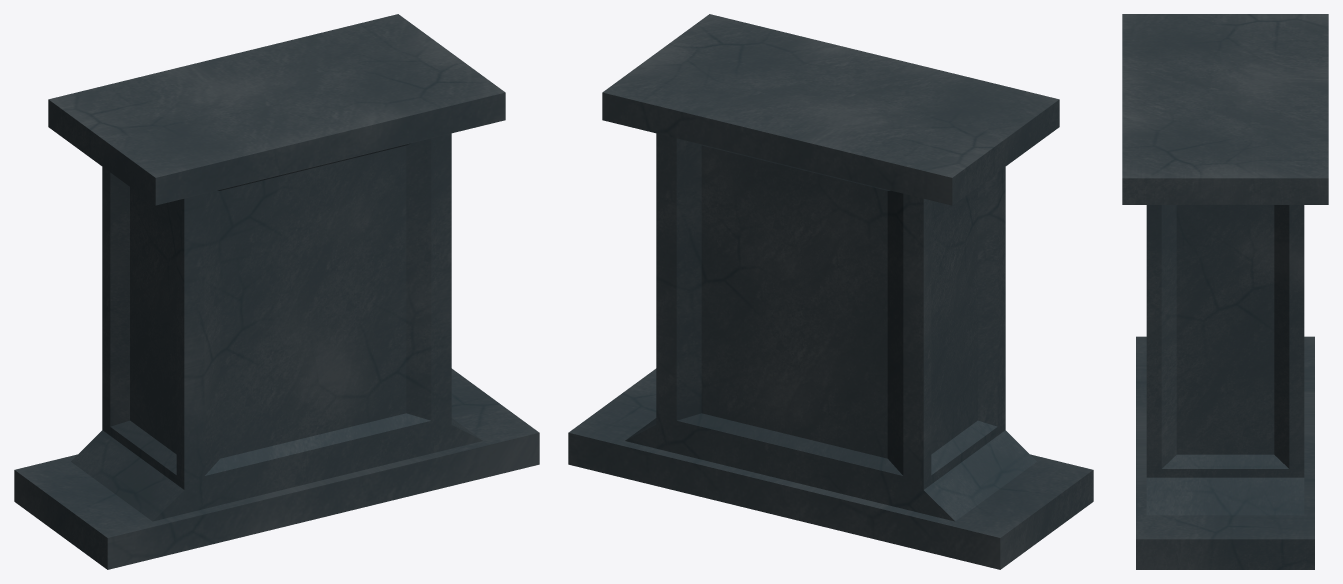
The model's file is Gravestone12_Model.fbx.
The picture shows the model from 3 angles, left to right: view 1: azimuth 30°, elevation 25°; view 2: azimuth 150°, elevation 25°; view 3: azimuth 270°, elevation 25°; orthographic projection. The views are drawn at different scales.
Visible parts, largest first — view 1: Gravestone12; view 2: Gravestone12; view 3: Gravestone12.
Boxes of the visible parts, bbox=[...] form: Gravestone12: bbox=[14, 14, 539, 569]; Gravestone12: bbox=[568, 14, 1093, 569]; Gravestone12: bbox=[1122, 14, 1328, 569].
Bounding box in the file's own units: 129 × 110 × 55.49.
